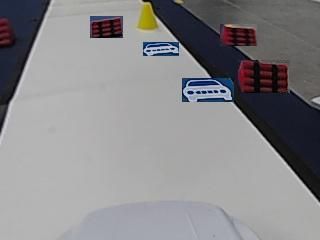cone: (138, 4, 158, 30)
